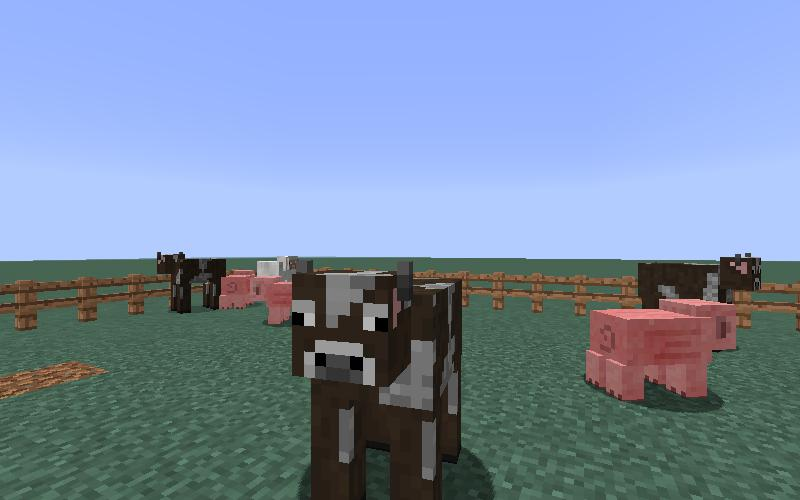cow: (288, 255, 471, 500), (634, 249, 764, 310), (153, 248, 229, 319)
pig: (577, 291, 741, 415), (218, 268, 258, 316)
sheep: (257, 256, 297, 276)
